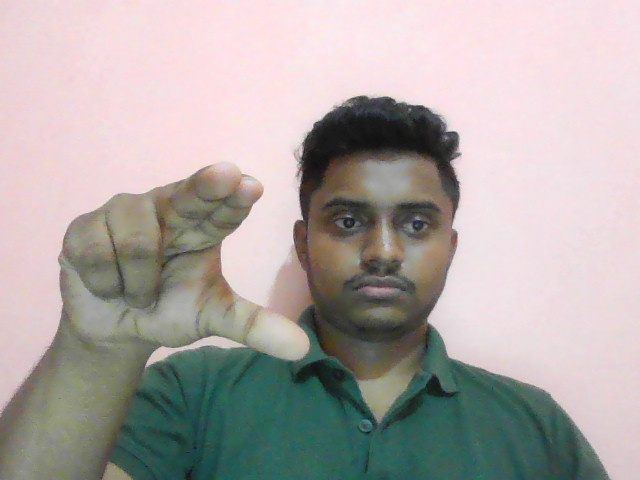No: (59, 159, 313, 368)
